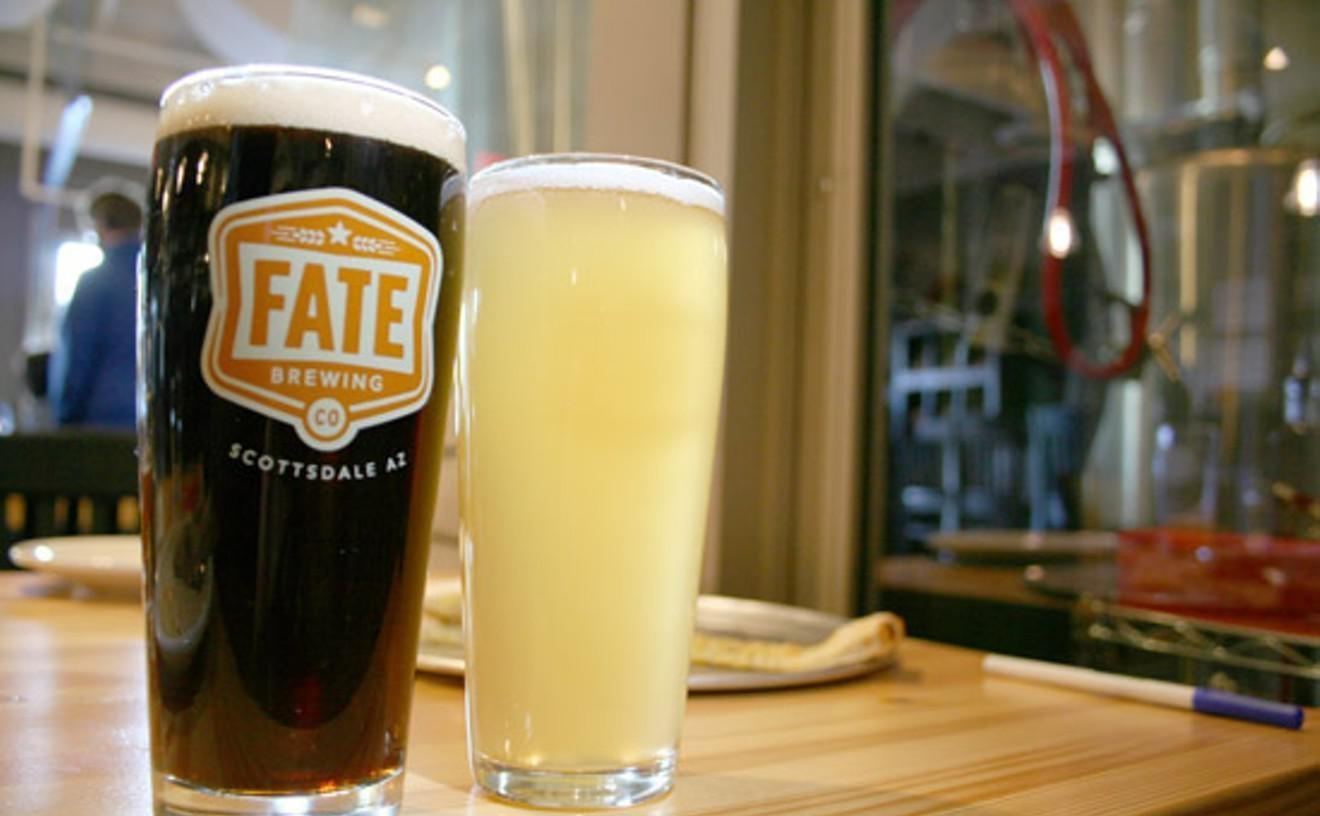glass-normal: (131, 61, 472, 815), (453, 151, 735, 812)
